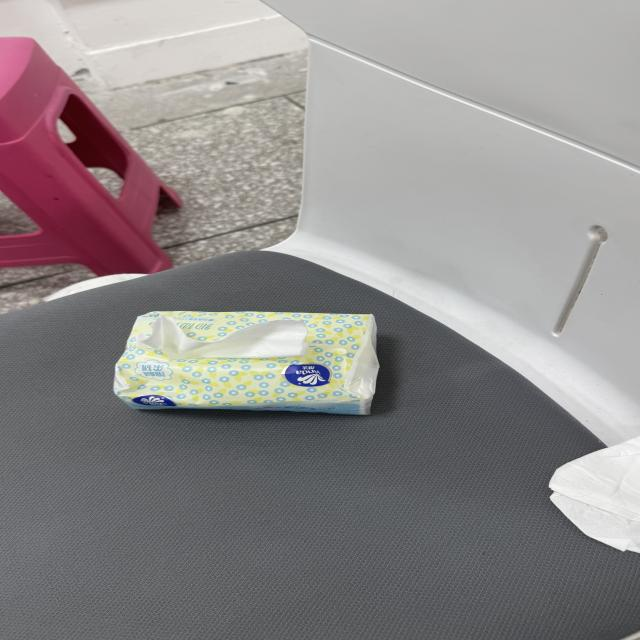tissue: (115, 312, 378, 414), (550, 438, 639, 552), (137, 314, 308, 358)
